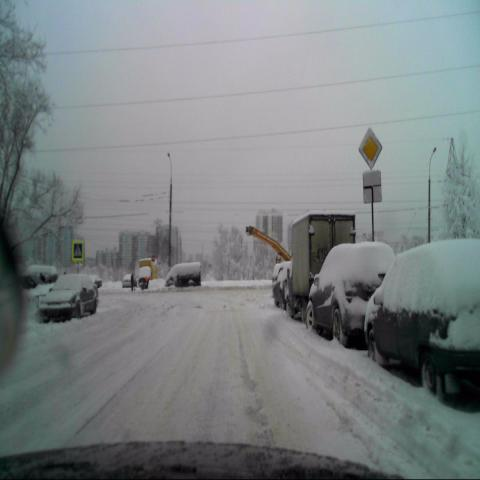8_13: (362, 169, 382, 203)
